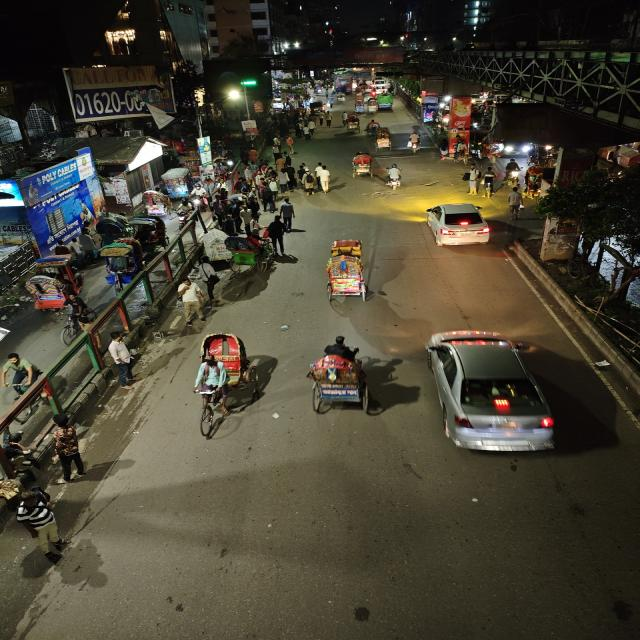bicycle: (61, 297, 93, 341), (452, 148, 473, 168)
car: (418, 326, 562, 458), (421, 200, 494, 250), (307, 100, 326, 114)
motorcycle: (172, 202, 199, 230), (383, 162, 406, 192), (404, 130, 424, 156), (502, 158, 521, 184), (188, 192, 208, 212)
pedestrian: (52, 415, 86, 483), (105, 331, 137, 387), (1, 351, 28, 396), (177, 280, 205, 318), (266, 216, 289, 251), (278, 198, 298, 230), (506, 186, 525, 218), (314, 162, 333, 193), (261, 178, 278, 212), (222, 211, 243, 237), (480, 166, 497, 197), (300, 169, 318, 197), (246, 194, 263, 223), (461, 169, 480, 193), (237, 206, 252, 235), (281, 161, 297, 187), (438, 138, 451, 162), (283, 135, 296, 155), (322, 111, 336, 127), (306, 119, 318, 137), (296, 161, 309, 176), (272, 146, 280, 162)
pickup_van: (378, 93, 394, 111)
rickshaw: (187, 330, 259, 437), (299, 335, 384, 418), (318, 238, 380, 304), (24, 256, 86, 309), (97, 238, 143, 286), (222, 233, 272, 275), (120, 221, 168, 251), (138, 190, 173, 218), (349, 150, 375, 180), (165, 172, 190, 196), (374, 128, 392, 150), (342, 112, 361, 132), (364, 119, 380, 138), (368, 97, 380, 114), (352, 101, 367, 114)
